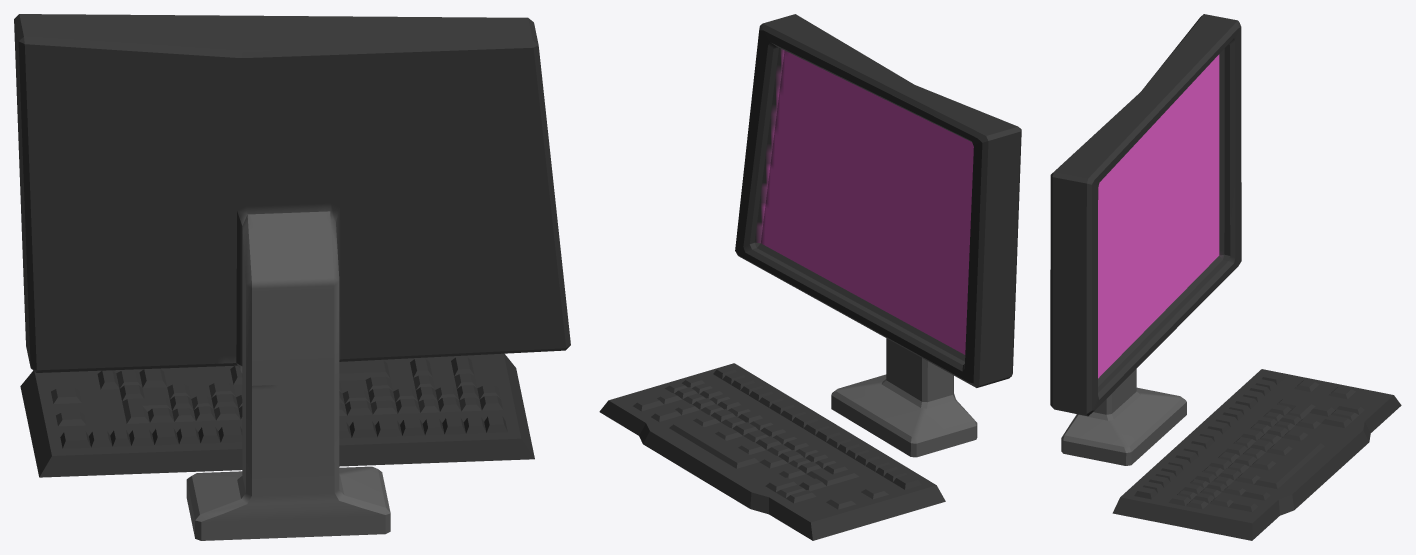
Rendered from computer.fbx.
3 renders of one model, left to right at view 1: azimuth 30°, elevation 25°; view 2: azimuth 150°, elevation 25°; view 3: azimuth 270°, elevation 25°, orthographic. The views are drawn at different scales.
Parts seen in each view (by area): view 1: polySurface509; view 2: polySurface509; view 3: polySurface509.
Boxes of the visible parts, bbox=[...] form: polySurface509: bbox=[14, 14, 570, 540]; polySurface509: bbox=[599, 14, 1021, 540]; polySurface509: bbox=[1050, 14, 1401, 540].
Size of the model in its own units: 0.6585 by 0.5794 by 0.5314.
Materials: 1 (1 with a texture image).
